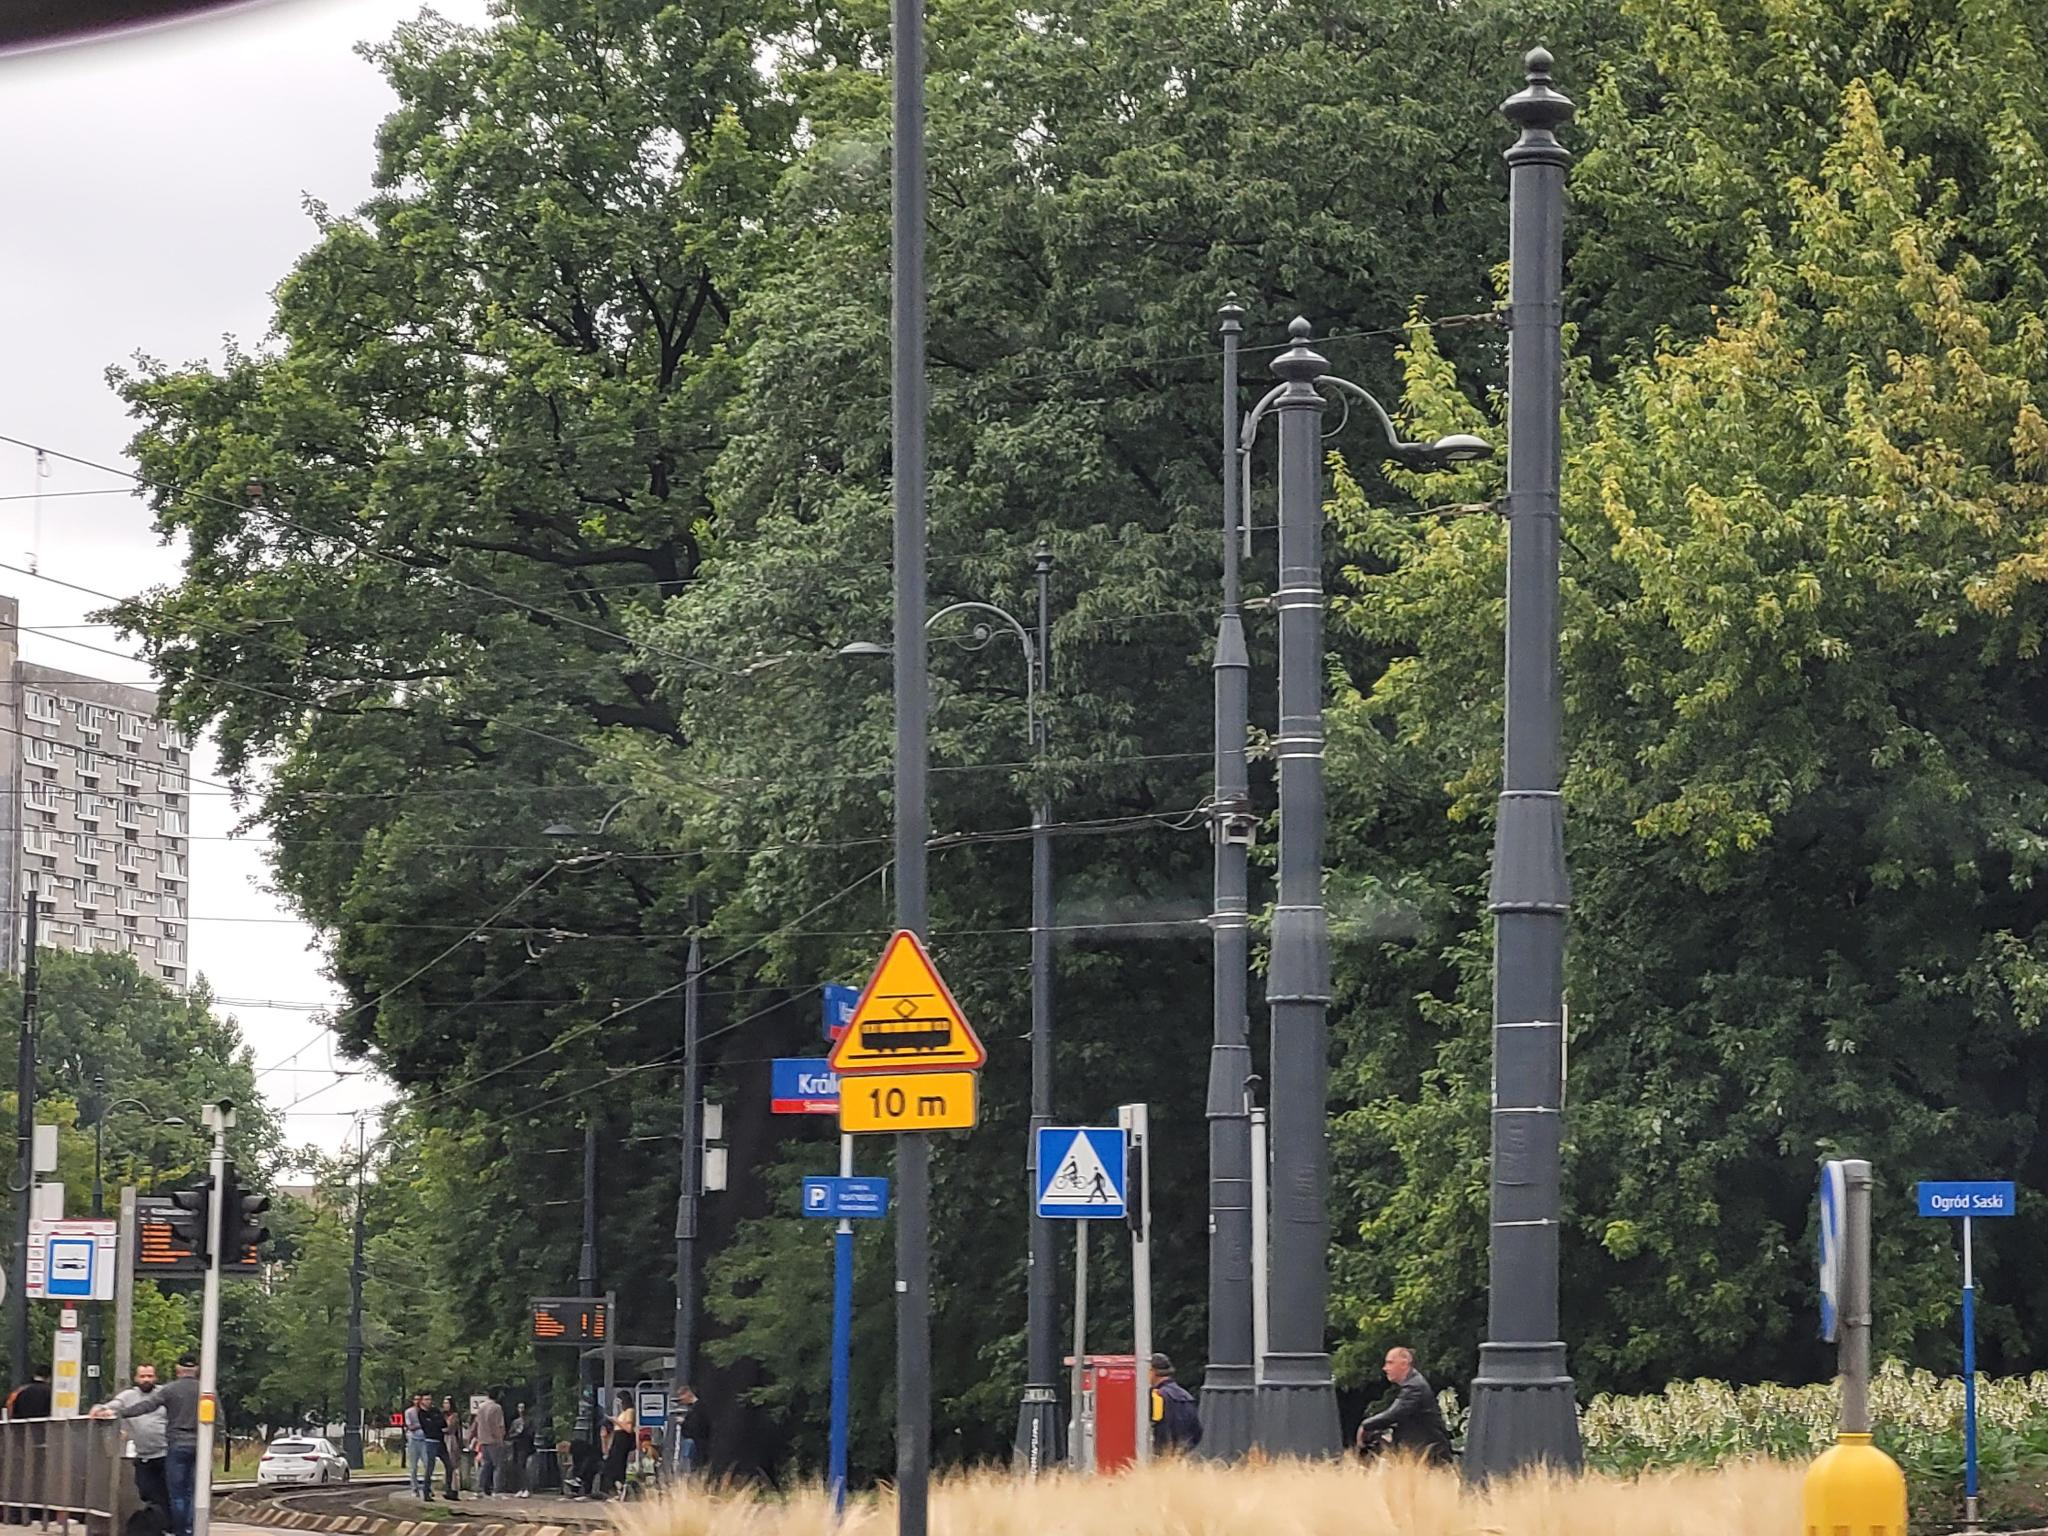information: (1039, 1128, 1127, 1213)
other: (840, 1076, 974, 1128)
warning: (827, 931, 987, 1073)
